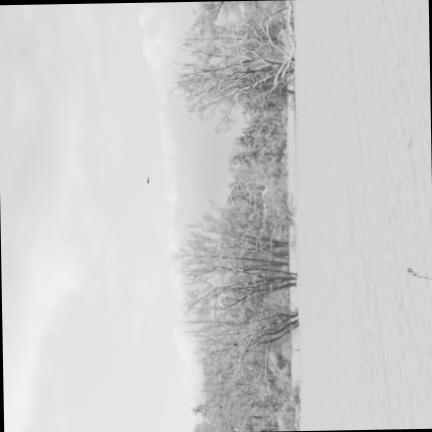Shahed: (146, 174, 149, 183)
